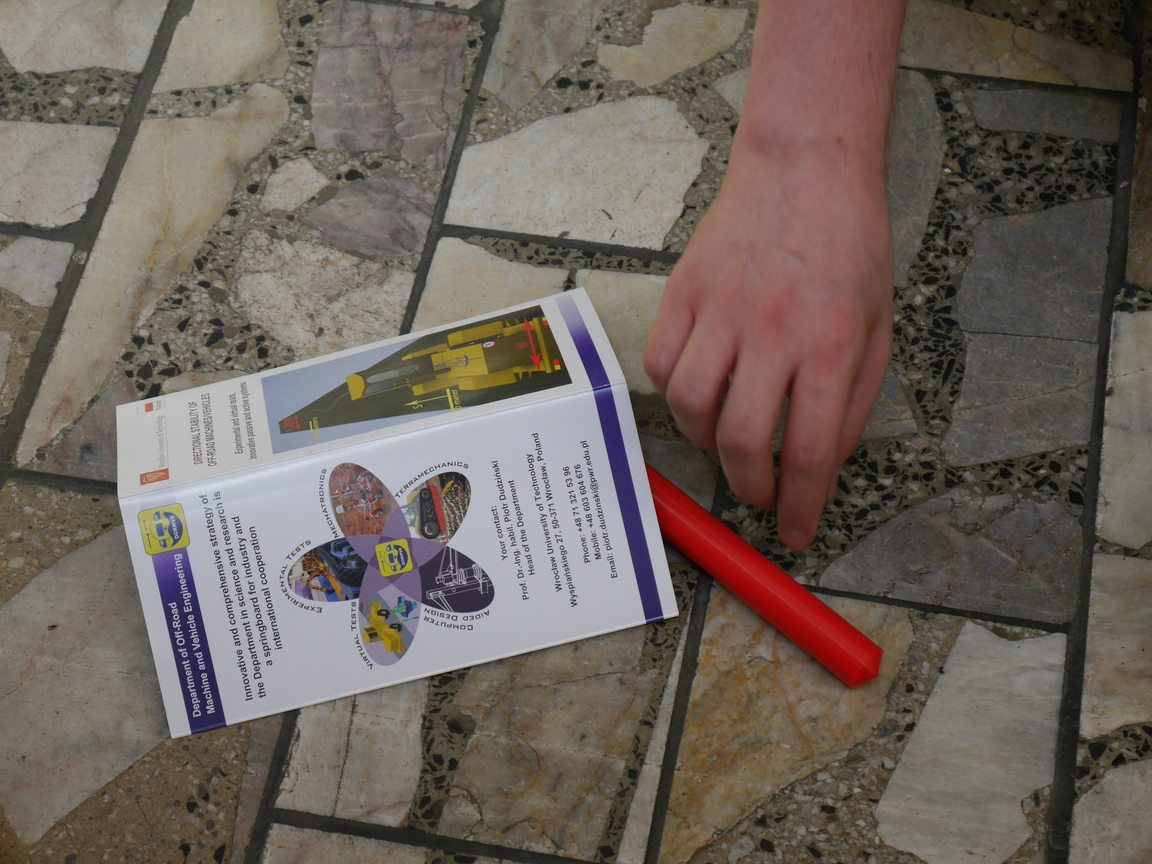cargo_g: (642, 471, 885, 689)
